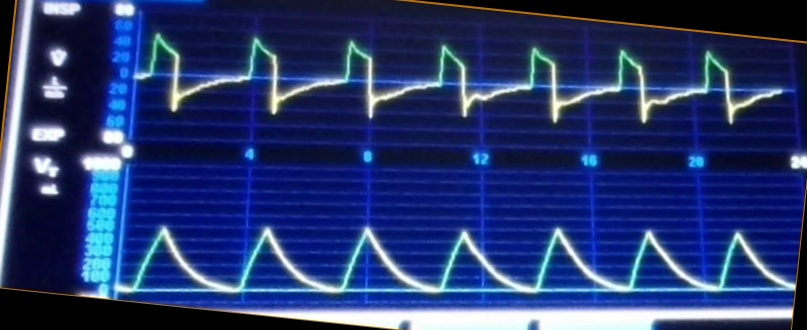Premature_cycling Flow: (140, 30, 780, 129)
Premature_cycling Volume: (123, 218, 791, 300)
